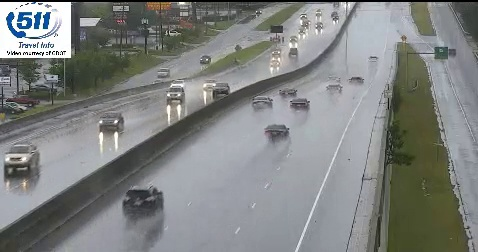car: (122, 186, 164, 215), (264, 125, 290, 141), (252, 96, 272, 111), (289, 98, 310, 111), (280, 88, 297, 99)
